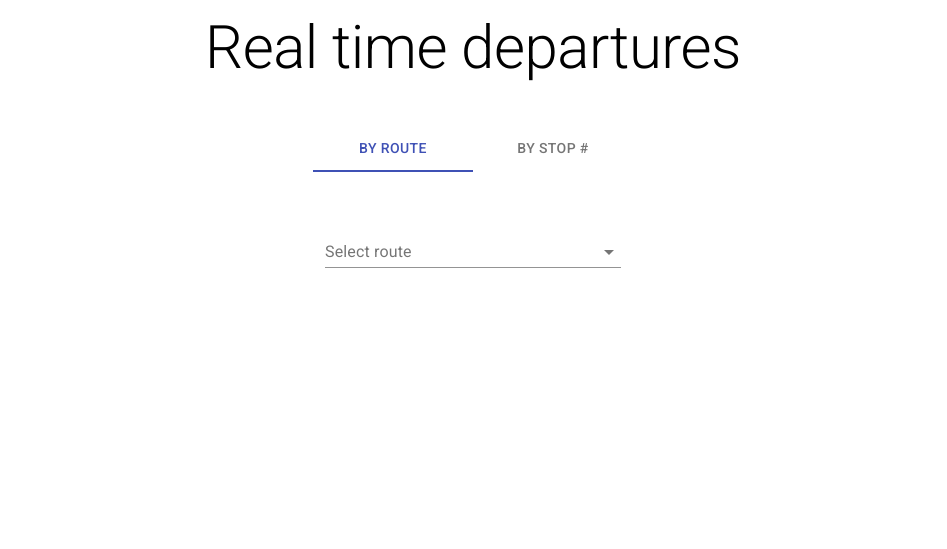
Test: RealTimeDepartures › Searching by stop number › Renders the departures table when a valid stop number is submitted via clicking the search button
This screenshot has width=947, height=549.
switch to By stop # tab
Click the tab "By stop #" at x=553, y=148, box [473,124,633,172]
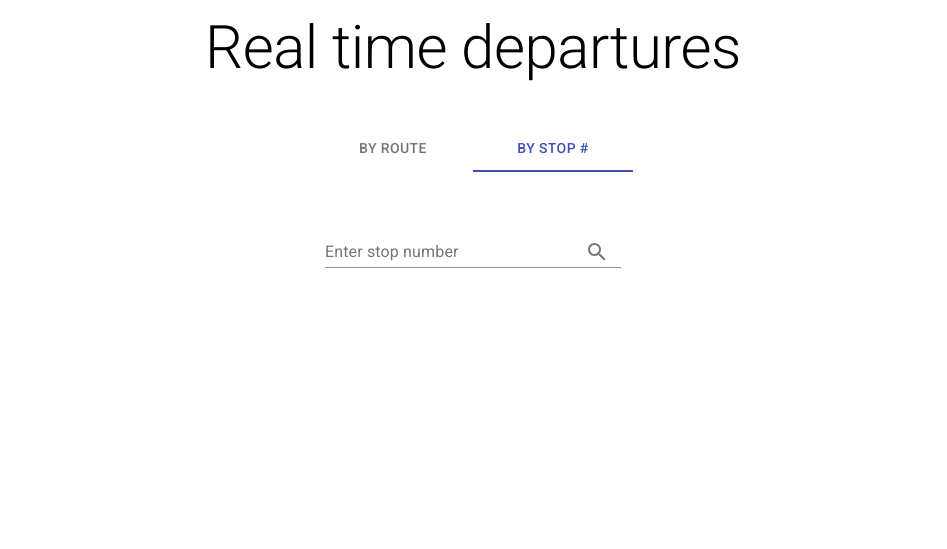
Check: the heading "Stop #: 51405" is not shown
Type "51405" into the field labelled "Enter stop number" at x=445, y=252, box [325,236,565,268]
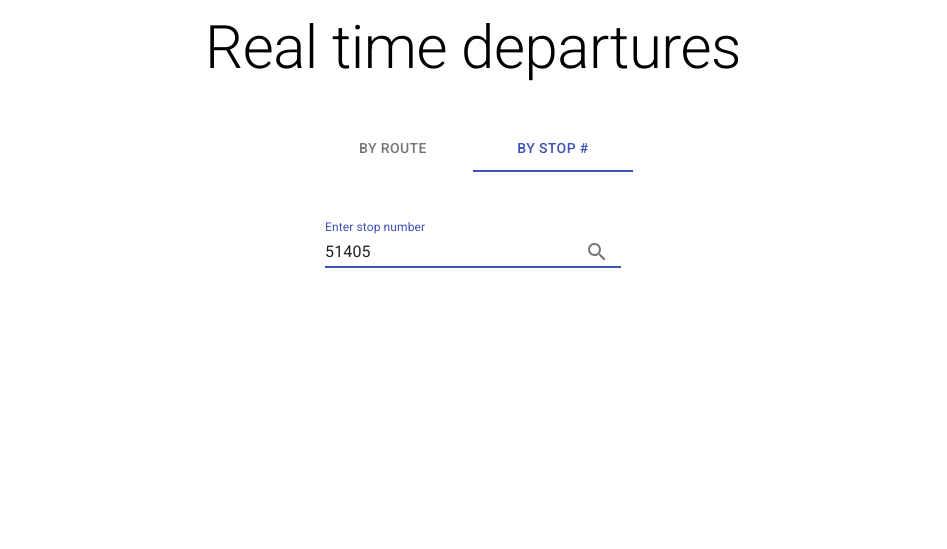
Click the button named "Search" at x=597, y=252, box [573,228,621,276]
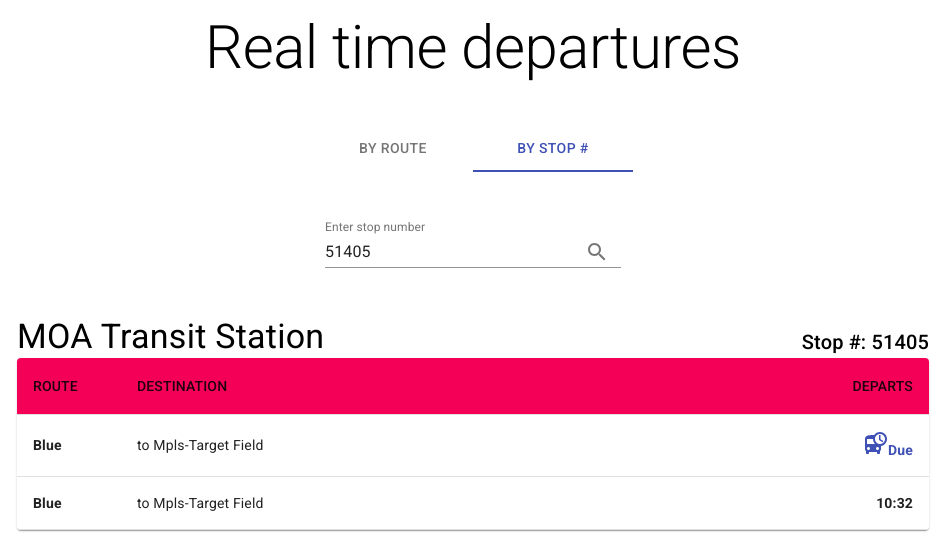
Check: the heading "Stop #: 51405" is shown, box [802,326,929,358]
